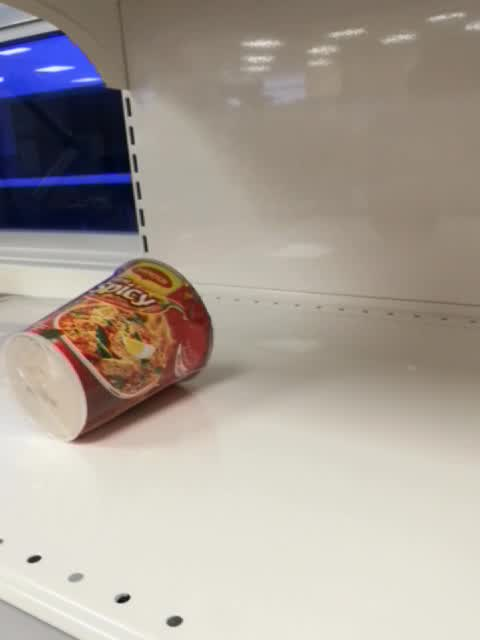maggi: (4, 255, 215, 443)
